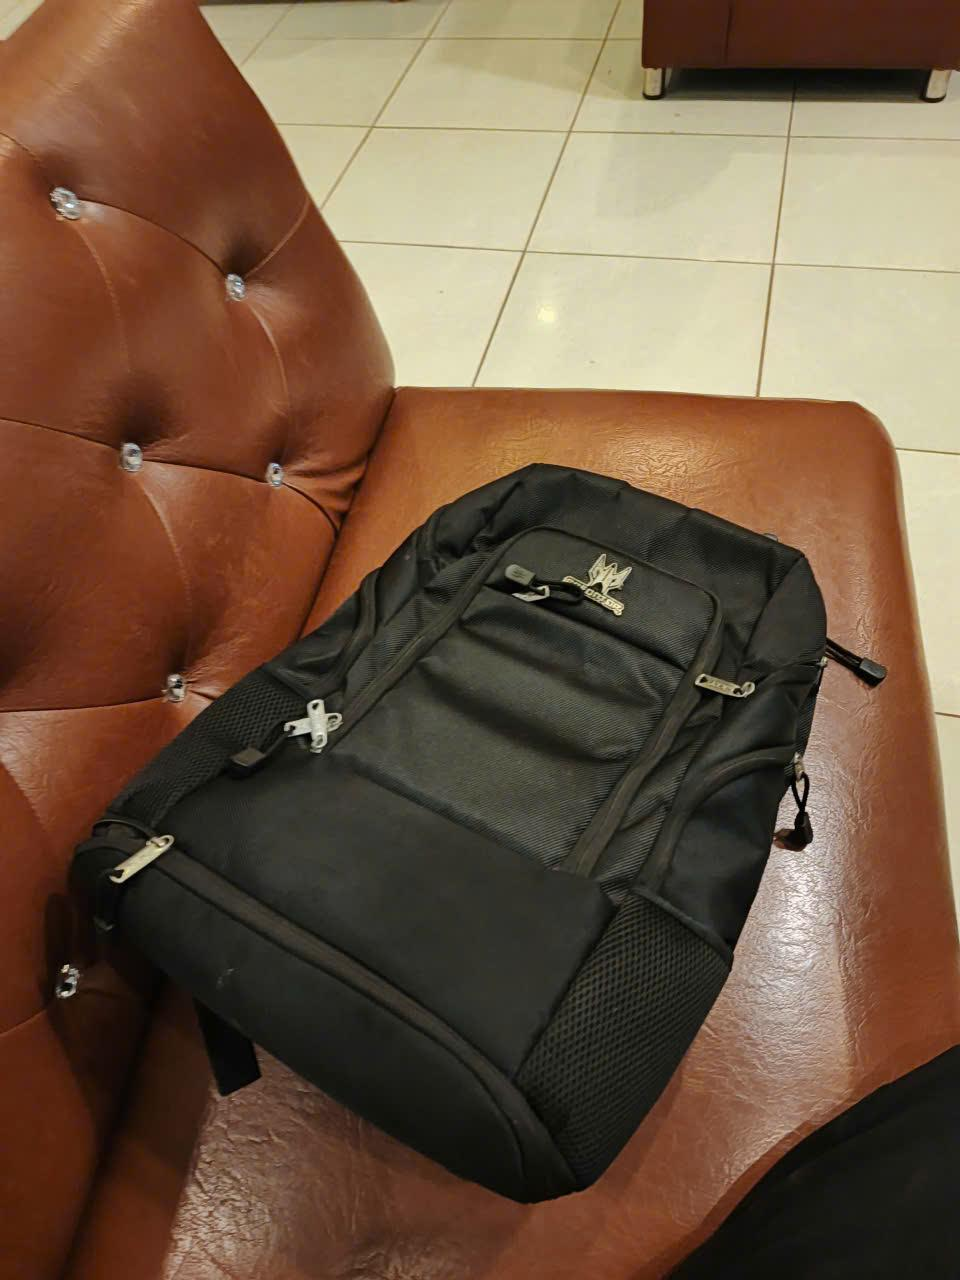Con lai: (50, 458, 836, 1194)
